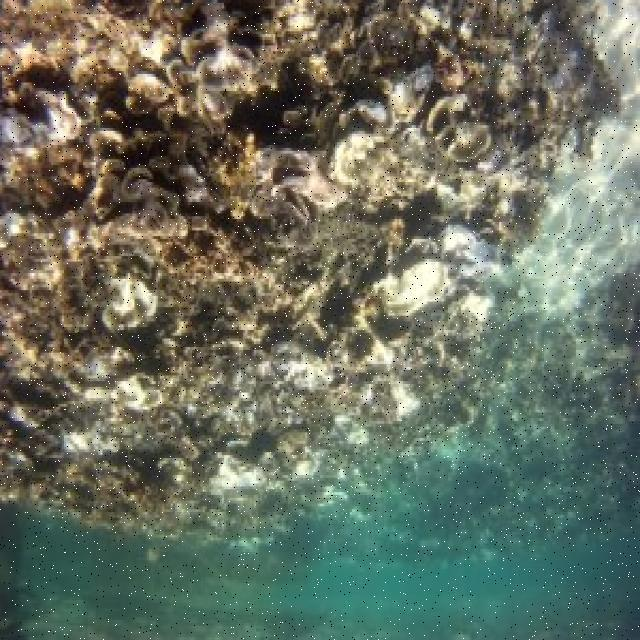Bleached: (268, 63, 436, 214), (439, 63, 584, 214), (371, 221, 506, 325), (134, 1, 249, 117), (232, 342, 337, 419), (66, 347, 166, 416), (1, 85, 87, 156), (95, 271, 160, 336), (339, 324, 419, 374), (62, 416, 140, 461), (359, 372, 426, 417), (411, 1, 477, 45), (208, 449, 268, 497), (7, 402, 40, 435), (1, 211, 26, 250), (339, 418, 369, 448)
Healthy: (94, 127, 267, 258), (233, 216, 371, 341), (1, 1, 137, 84), (1, 460, 169, 527), (167, 254, 232, 412), (249, 41, 339, 151), (1, 266, 91, 349), (332, 1, 407, 63)
